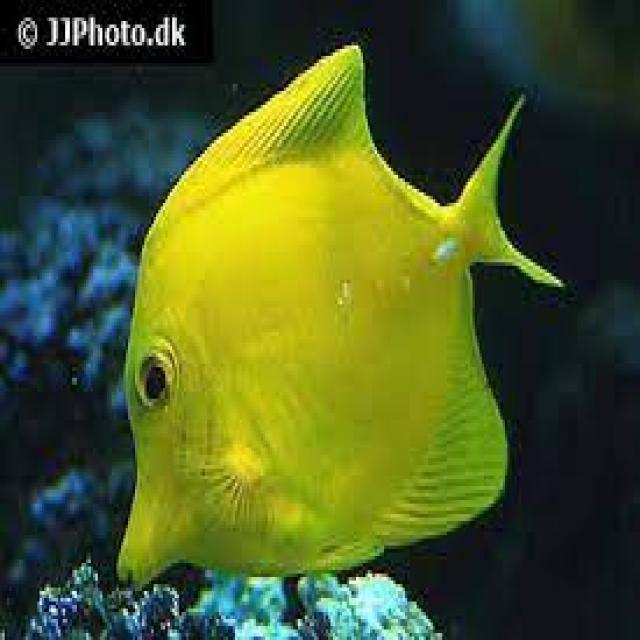TangFish: (110, 40, 565, 594)
